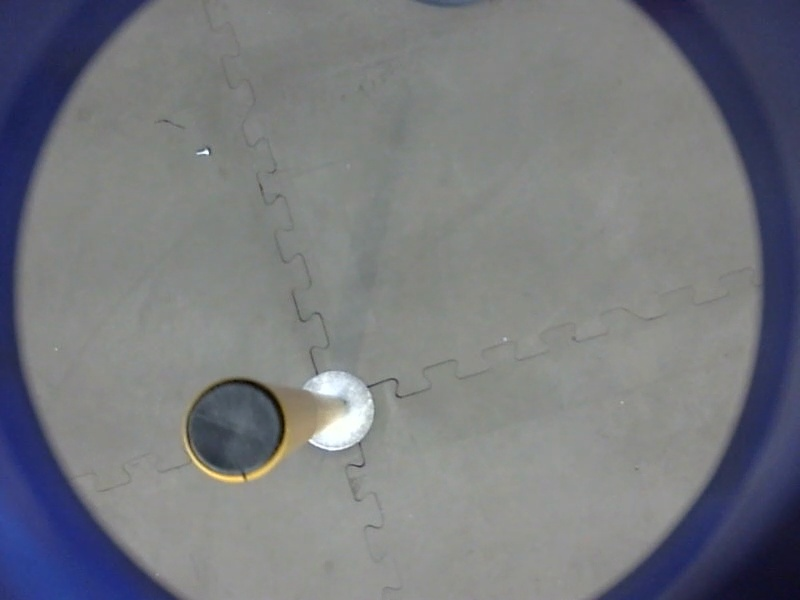tip: (175, 371, 292, 488)
